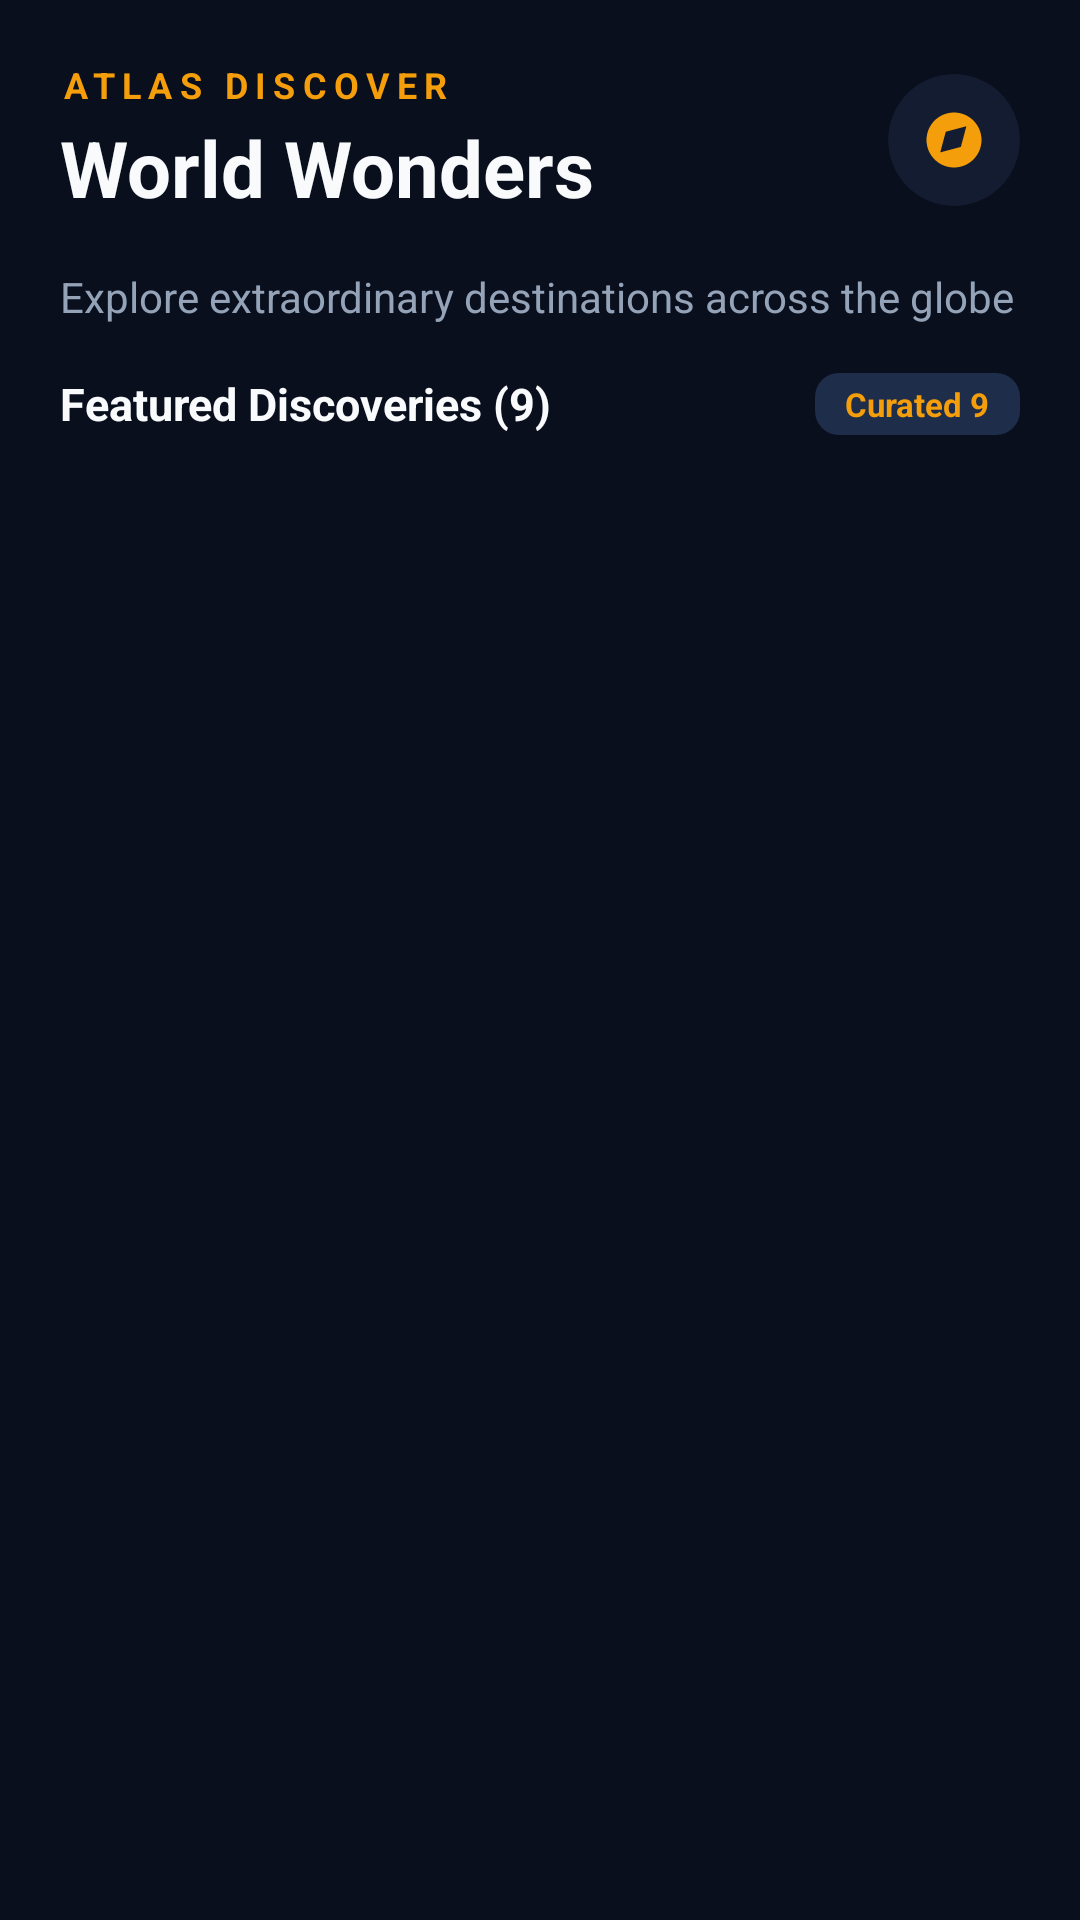

Named icons in this screenshot (1080 × 1920) and their bounding boxes, [x1=x1, y1=y1, x2=x2, y2=y2]:
compass: [x1=926, y1=112, x2=982, y2=168]
